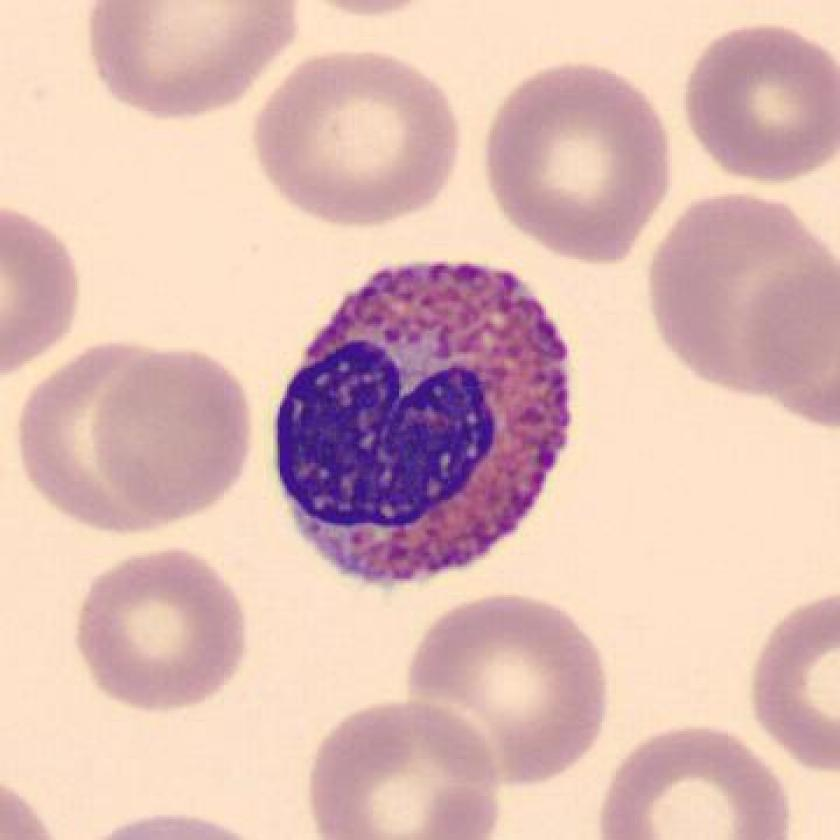eosinophil: (263, 254, 585, 594)
